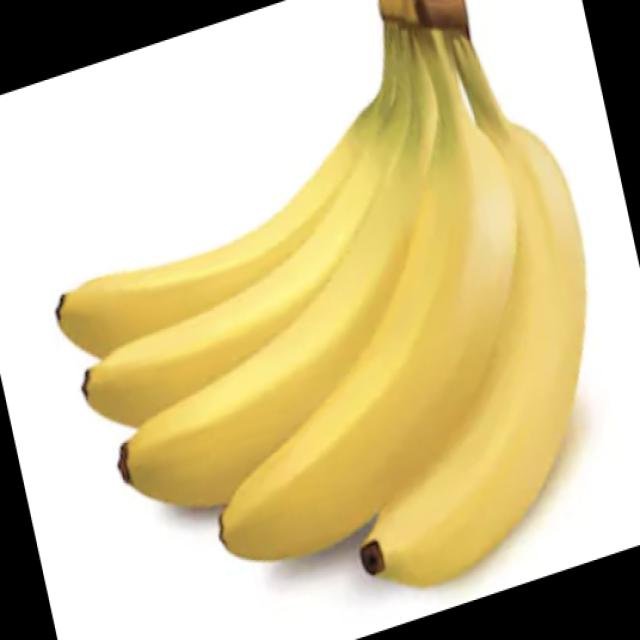god quality banana: (55, 0, 586, 584)
